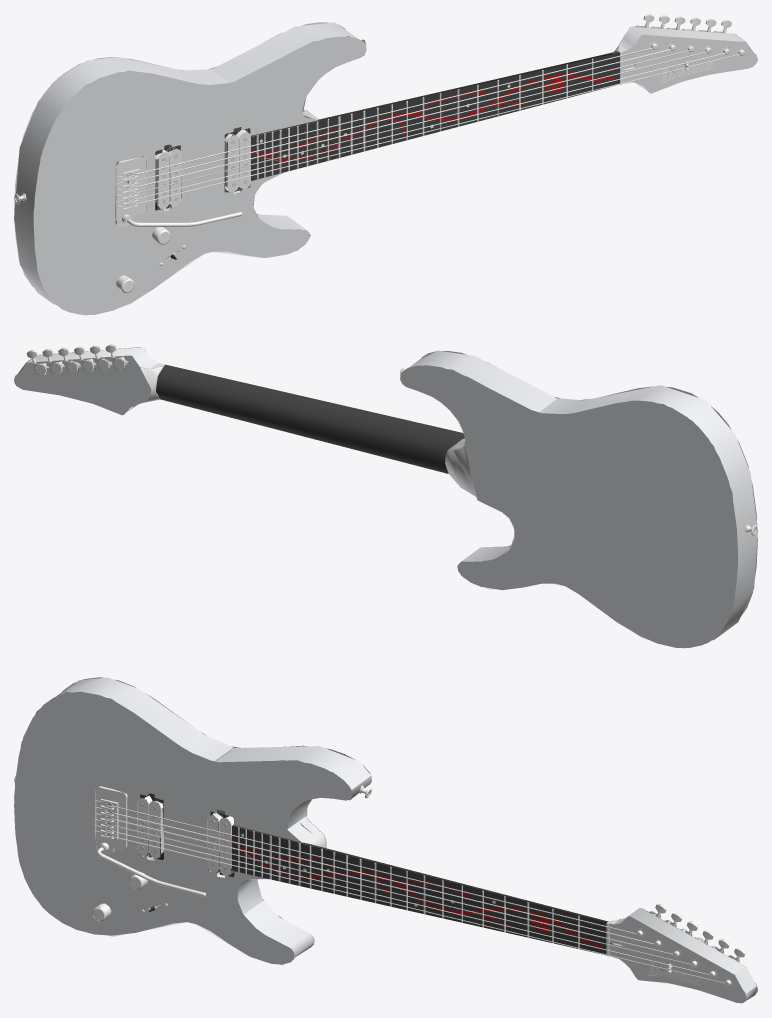
File: rose-neck-guitar.glb
3 views of the same model, one above another, from view 1: azimuth 30°, elevation 25°; view 2: azimuth 150°, elevation 25°; view 3: azimuth 330°, elevation 25° (orthographic).
Visible parts, largest first — view 1: Object_7, Object_1, Object_27; view 2: Object_7, Object_1, Object_27; view 3: Object_7, Object_1, Object_27.
Part boxes in pixels (left/top/right/bottom): Object_7: left=14, top=22, right=757, bottom=315; Object_1: left=14, top=25, right=740, bottom=259; Object_27: left=115, top=14, right=744, bottom=293; Object_7: left=14, top=347, right=757, bottom=648; Object_1: left=32, top=356, right=757, bottom=535; Object_27: left=26, top=344, right=131, bottom=363; Object_7: left=14, top=677, right=757, bottom=1003; Object_1: left=14, top=775, right=739, bottom=985; Object_27: left=92, top=786, right=745, bottom=986.
Bounding box in the file's own units: 1 × 0.3109 × 0.072.
Materials: 3 (3 with a texture image).
